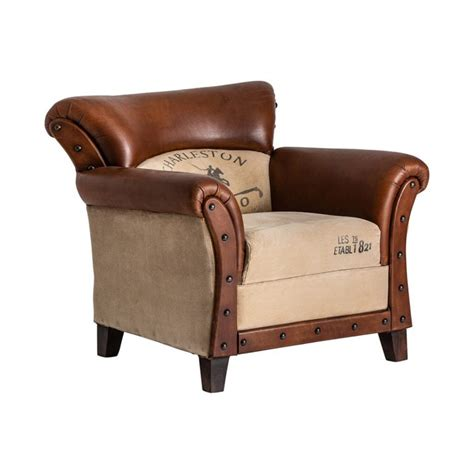cuero: (44, 80, 431, 358)
